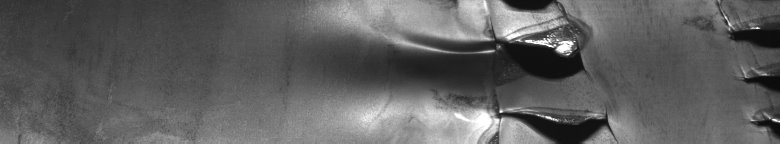ke: (384, 4, 616, 136)
